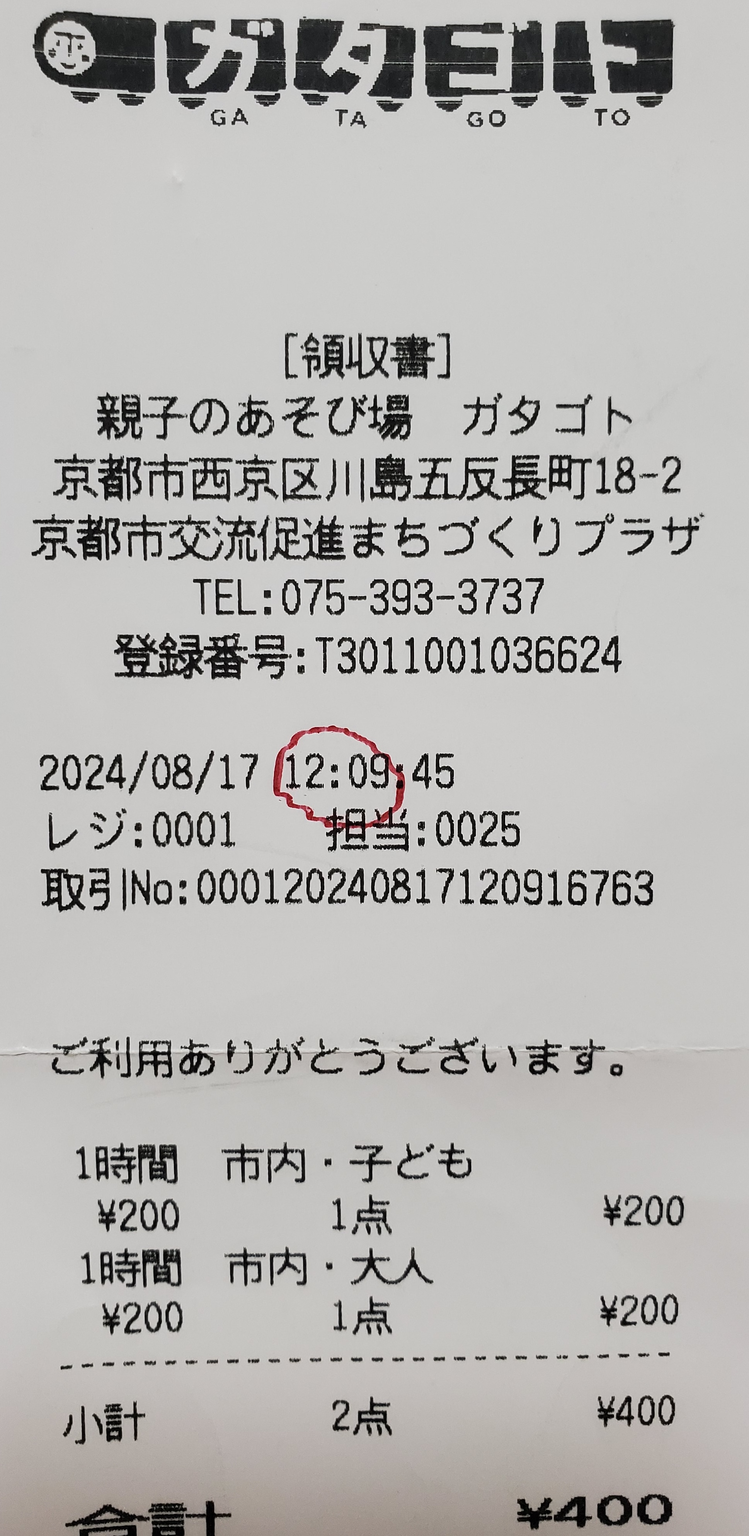Date: (21, 744, 269, 803)
Shopname: (175, 5, 691, 128)
Telnum: (273, 564, 551, 626)
Totalpay: (57, 1474, 703, 1536)
